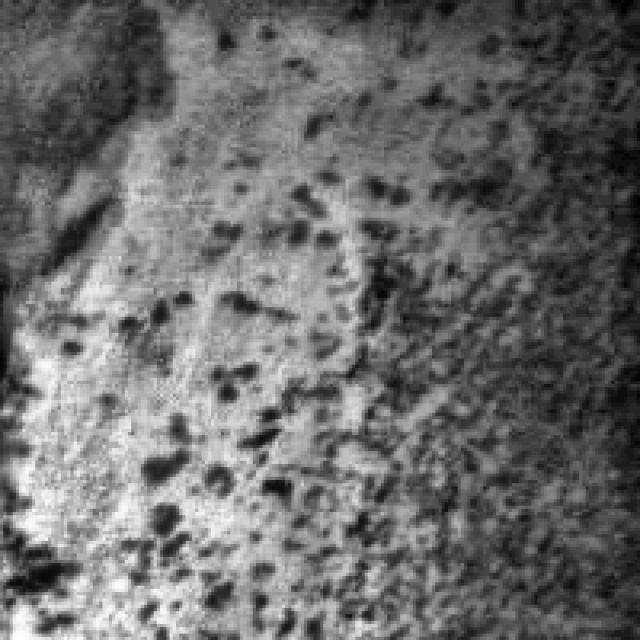Rolled_in_Scale: (52, 103, 534, 612)
